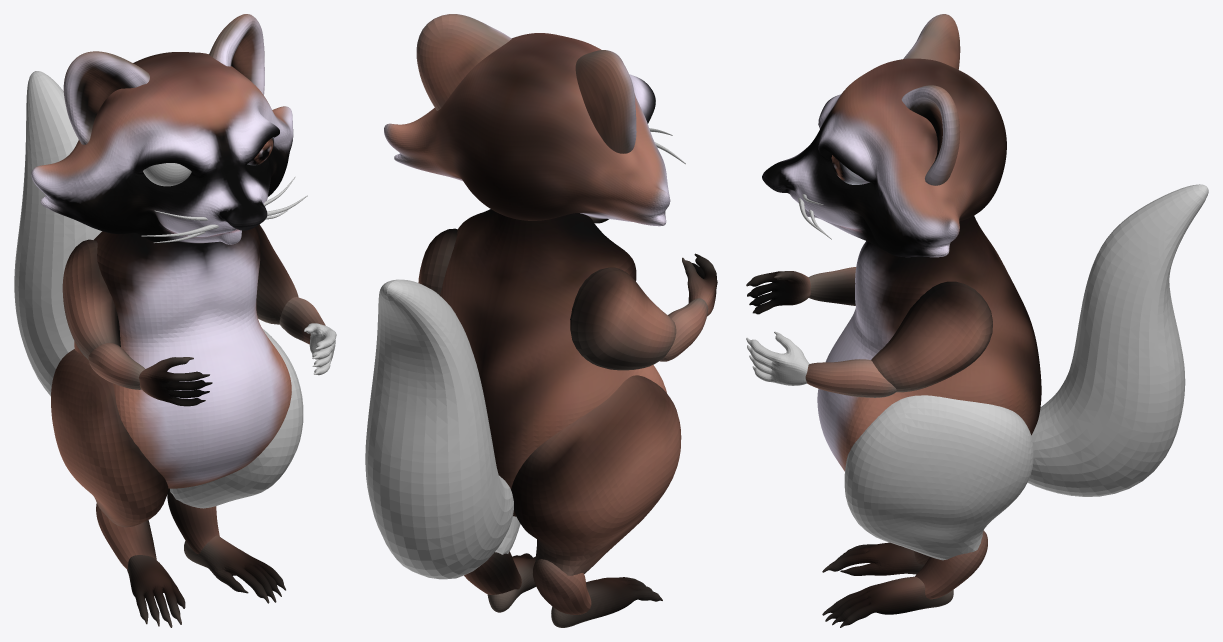
Rendered from GGJ26_Mask_Racoon_Set.fbx.
3 renders of one model, left to right at view 1: azimuth 30°, elevation 25°; view 2: azimuth 150°, elevation 25°; view 3: azimuth 270°, elevation 25°, orthographic. The views are drawn at different scales.
Visible parts, largest first — view 1: Body, Head, Tail, ThighR, ThighL, UpperArmR, EarR, PawL, PawR, EarL, UpperArmL, HandR (+7 smaller); view 2: Head, Tail, Body, ThighR, UpperArmR, EarL, EarR, PawR, LegR, LegL, UpperArmL, LowerArmR (+2 smaller); view 3: Tail, Head, ThighL, Body, UpperArmL, PawL, EarL, LowerArmL, PawR, HandL, LegL, HandR (+2 smaller).
Part boxes in pixels (bbox=[...]): Body: bbox=[74, 227, 291, 488]; Head: bbox=[31, 52, 293, 244]; Tail: bbox=[14, 71, 101, 396]; ThighR: bbox=[51, 349, 168, 527]; ThighL: bbox=[170, 328, 303, 508]; UpperArmR: bbox=[62, 239, 120, 359]; EarR: bbox=[63, 51, 149, 144]; PawL: bbox=[184, 535, 285, 603]; PawR: bbox=[127, 555, 185, 627]; EarL: bbox=[209, 14, 264, 95]; UpperArmL: bbox=[255, 224, 298, 324]; HandR: bbox=[139, 357, 212, 406]; Head: bbox=[384, 33, 670, 226]; Tail: bbox=[365, 279, 513, 579]; Body: bbox=[440, 209, 666, 516]; ThighR: bbox=[511, 375, 681, 575]; UpperArmR: bbox=[570, 267, 676, 370]; EarL: bbox=[416, 14, 511, 110]; EarR: bbox=[575, 50, 636, 153]; PawR: bbox=[551, 577, 662, 627]; LegR: bbox=[533, 559, 591, 614]; LegL: bbox=[464, 551, 521, 594]; UpperArmL: bbox=[418, 228, 457, 295]; LowerArmR: bbox=[659, 298, 708, 361]; Tail: bbox=[1027, 184, 1208, 496]; Head: bbox=[762, 58, 1006, 257]; ThighL: bbox=[844, 395, 1033, 560]; Body: bbox=[817, 216, 1041, 471]; UpperArmL: bbox=[871, 281, 992, 392]; PawL: bbox=[822, 576, 953, 627]; EarL: bbox=[901, 85, 960, 185]; LowerArmL: bbox=[805, 359, 896, 397]; PawR: bbox=[822, 542, 924, 575]; HandL: bbox=[746, 331, 809, 385]; LegL: bbox=[915, 530, 987, 599]; HandR: bbox=[746, 271, 810, 314].
Bounding box in the file's own units: 114 × 226 × 174.
